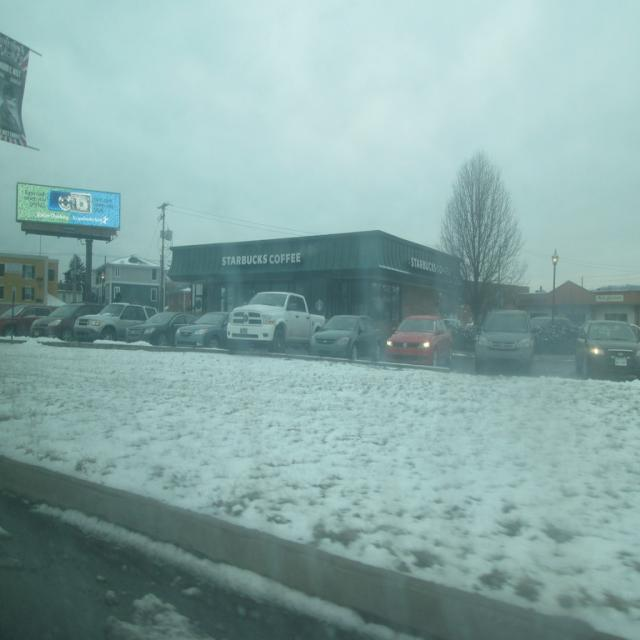car: (304, 309, 384, 359), (476, 312, 540, 369), (384, 315, 454, 366)
